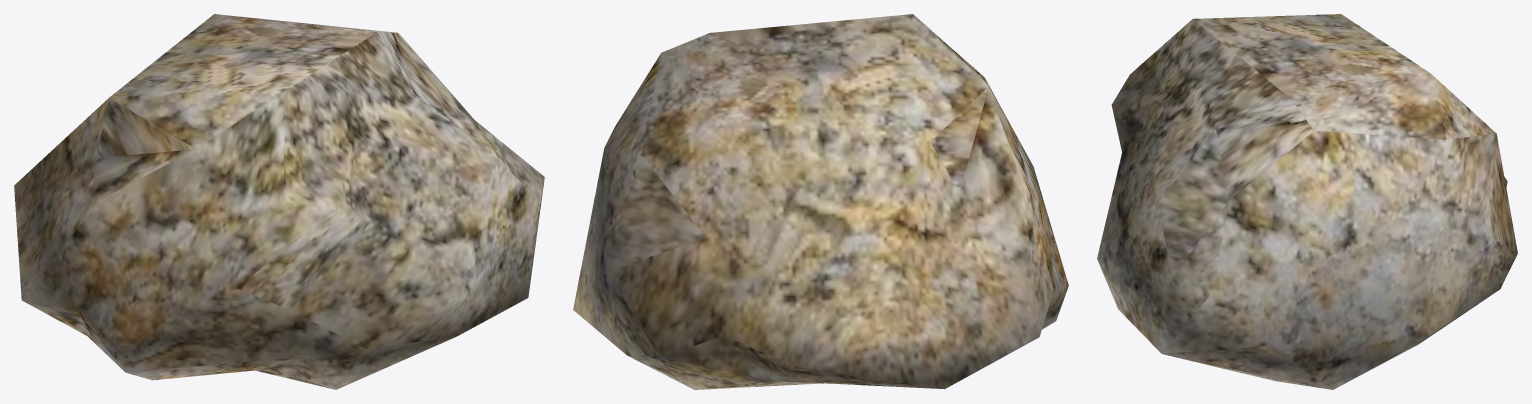
Rendered from granite-medium.glb.
The picture shows the model from 3 angles, left to right: view 1: azimuth 30°, elevation 25°; view 2: azimuth 150°, elevation 25°; view 3: azimuth 270°, elevation 25°; orthographic projection. The views are drawn at different scales.
Visible parts, largest first — view 1: Granite; view 2: Granite; view 3: Granite.
Part boxes in pixels (left/top/right/bottom): Granite: left=14, top=14, right=544, bottom=389; Granite: left=573, top=14, right=1068, bottom=389; Granite: left=1097, top=14, right=1517, bottom=389.
Bounding box in the file's own units: 0.9695 × 0.643 × 0.8196.
Materials: 1 (1 with a texture image).
